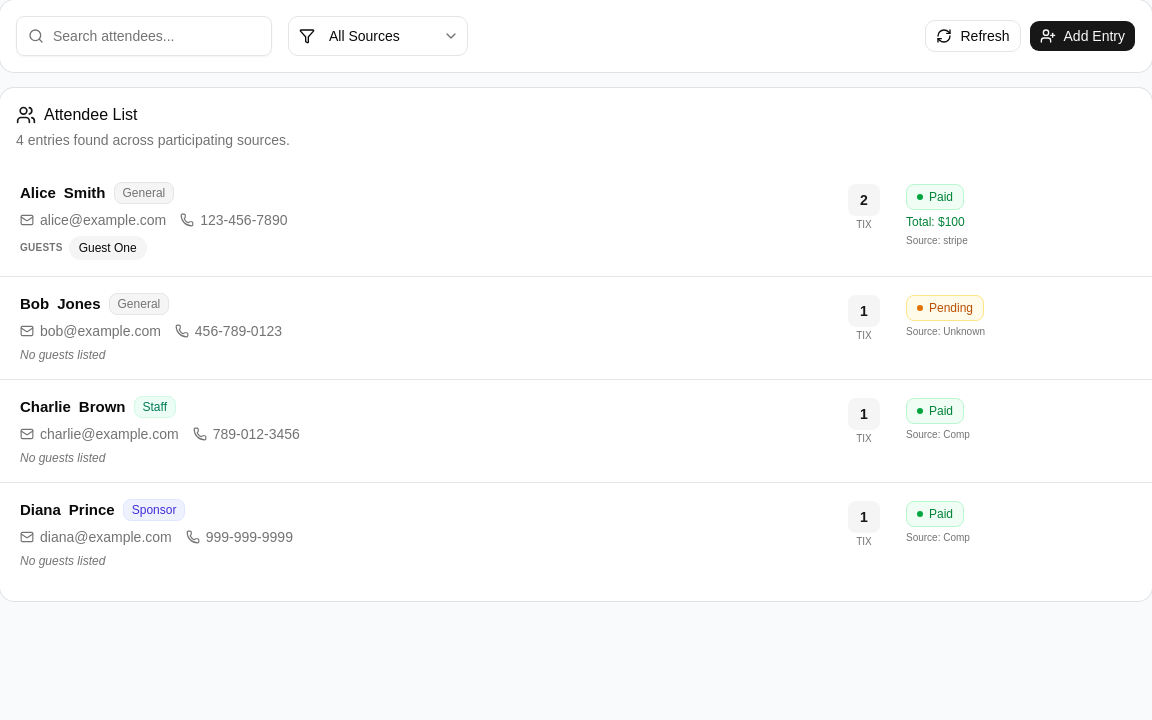
Scenario: TicketAttendeeTab - Sort and Filter › Staff Tickets filter: selects Staff Tickets option and displays only staff attendee
Click the dropdown named "Filter by source".
click(378, 36)  # box [288,16,468,56]
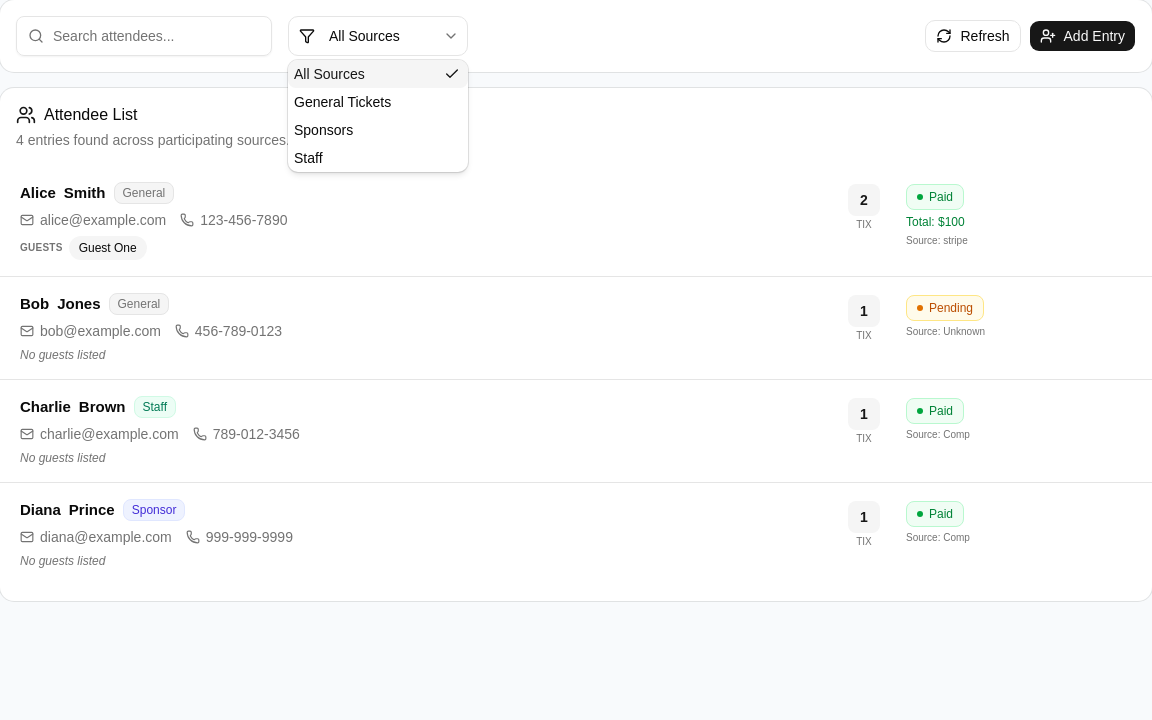
Click the option "Staff".
click(308, 158)  # box [294,150,322,166]
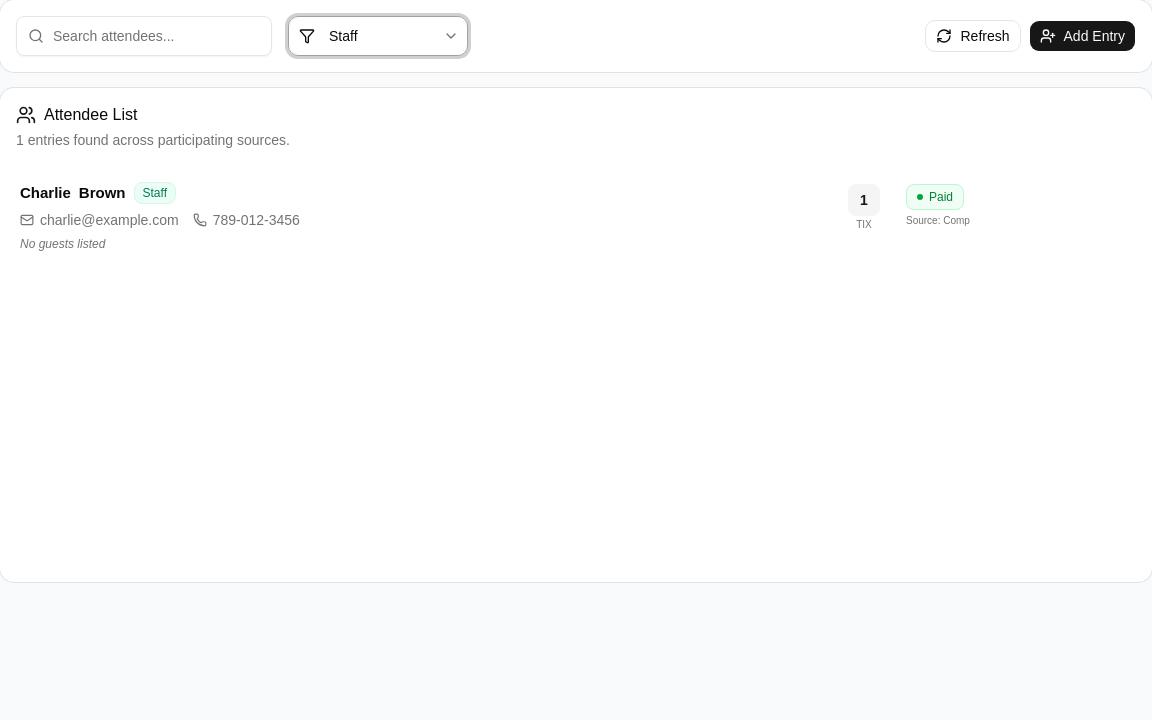
Check: the text "Alice" is gone
Check: the text "Bob" is gone
Check: the text "Diana" is gone
